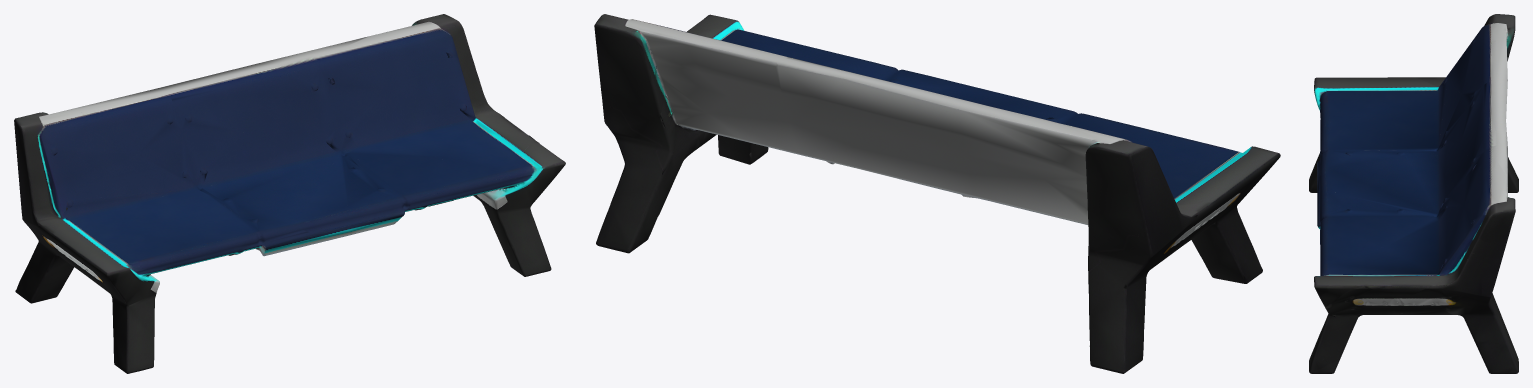
The picture shows the model from 3 angles, left to right: view 1: azimuth 30°, elevation 25°; view 2: azimuth 150°, elevation 25°; view 3: azimuth 270°, elevation 25°; orthographic projection. The views are drawn at different scales.
Size of the model in its own units: 1.9 by 0.6974 by 0.8042.
Materials: 1 (1 with a texture image).
